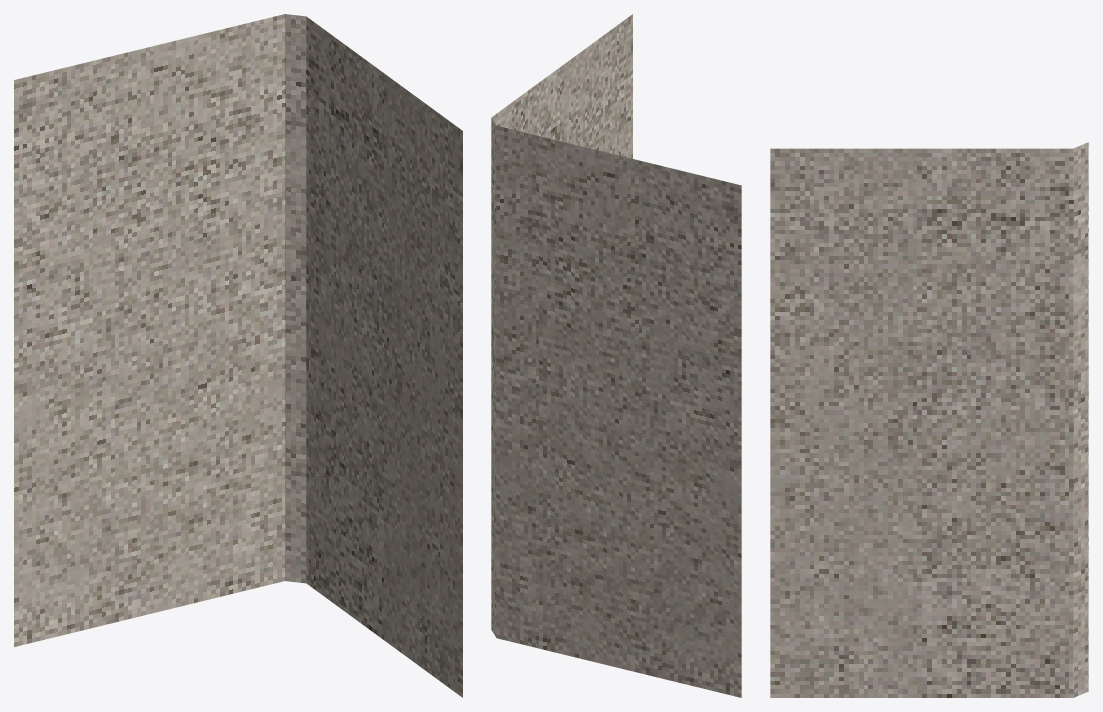
File: wallTurnPlaster2.glb
3 views of the same model, side by side, from view 1: azimuth 30°, elevation 25°; view 2: azimuth 150°, elevation 25°; view 3: azimuth 270°, elevation 25° (orthographic). The views are drawn at different scales.
Visible parts, largest first — view 1: wallTurnPlaster2; view 2: wallTurnPlaster2; view 3: wallTurnPlaster2.
Part boxes in pixels (bbox=[...]): wallTurnPlaster2: bbox=[14, 14, 462, 697]; wallTurnPlaster2: bbox=[491, 14, 741, 697]; wallTurnPlaster2: bbox=[770, 142, 1088, 697].
Bounding box in the file's own units: 2.1 × 4 × 2.1.
1 material, 1 textured.
